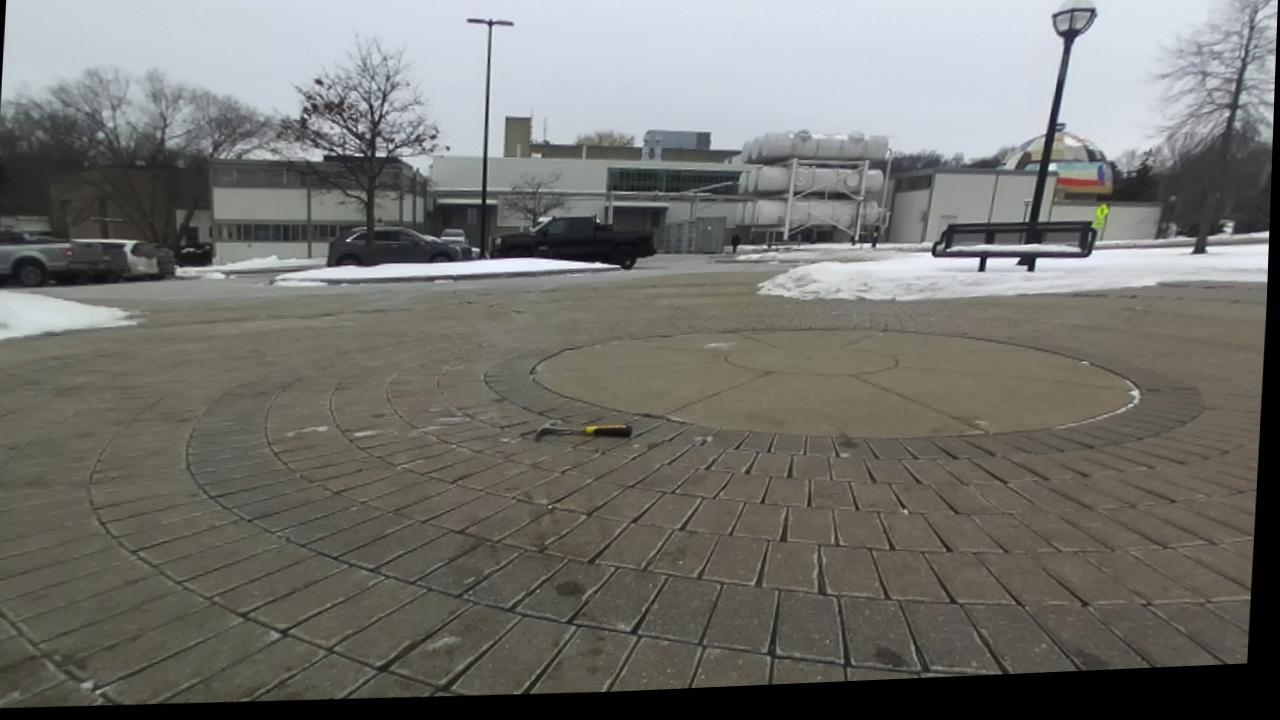pick: (533, 420, 633, 441)
